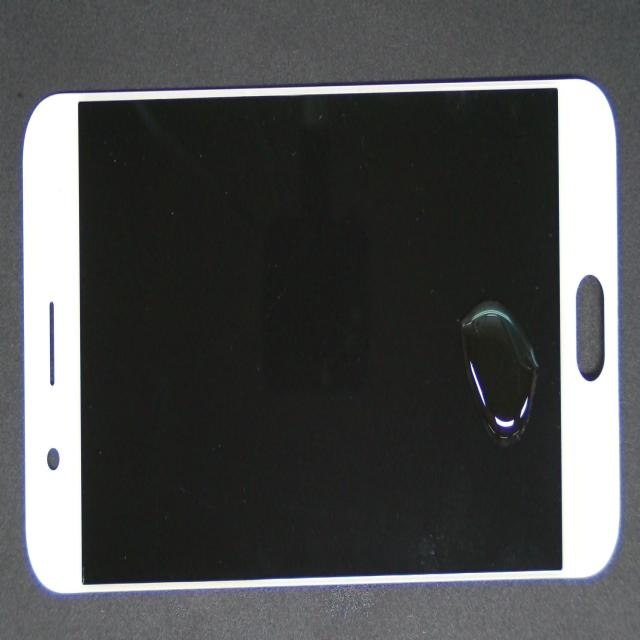oil: (282, 206, 640, 532)
